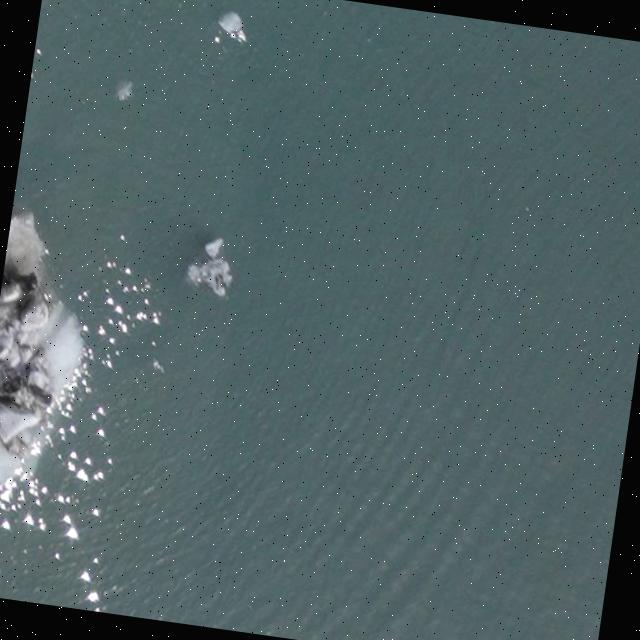seal: (0, 269, 38, 309)
